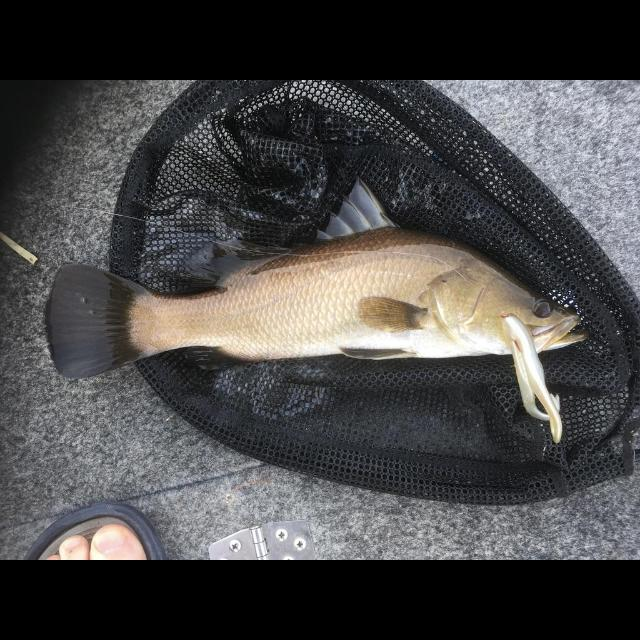Seabass: (42, 178, 590, 384)
